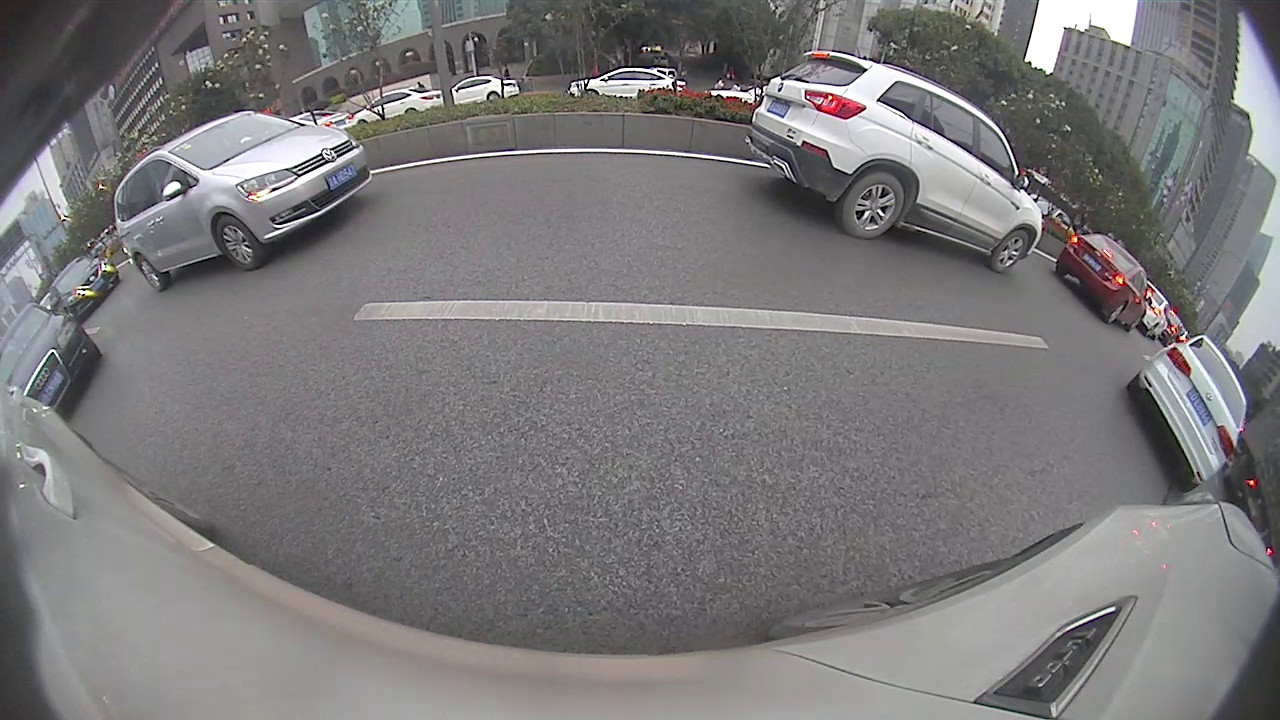car: (745, 50, 1043, 273), (114, 110, 372, 291), (1123, 333, 1248, 493), (1, 305, 103, 411), (1054, 232, 1154, 332), (48, 255, 121, 319)
front: (216, 216, 258, 270), (992, 229, 1029, 271), (581, 88, 596, 101)
rear: (843, 175, 908, 238), (134, 255, 164, 289), (486, 93, 502, 106)
